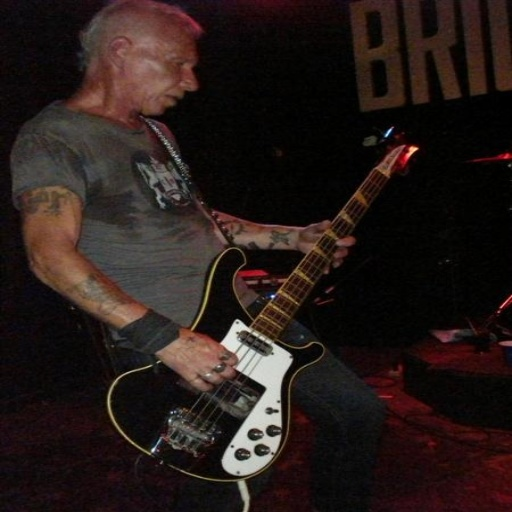hand: (146, 308, 240, 410), (295, 217, 352, 277)
